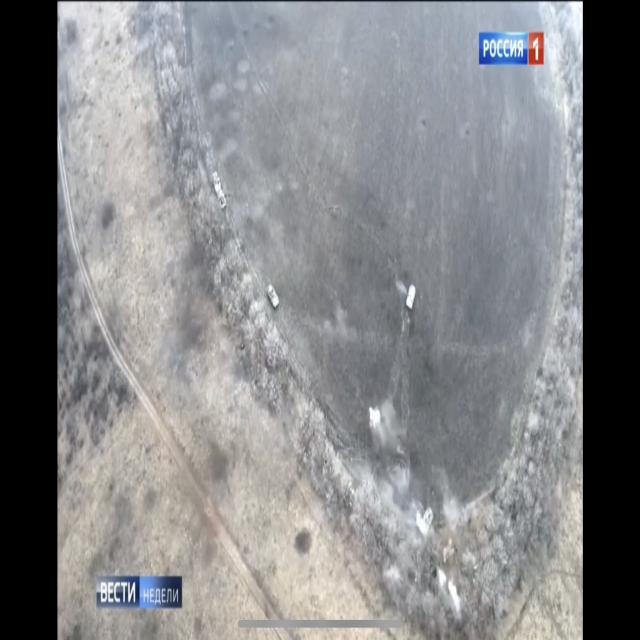apc: (420, 506, 433, 536), (266, 284, 280, 310), (406, 284, 416, 309)
cars: (211, 169, 222, 194), (218, 192, 227, 212)
